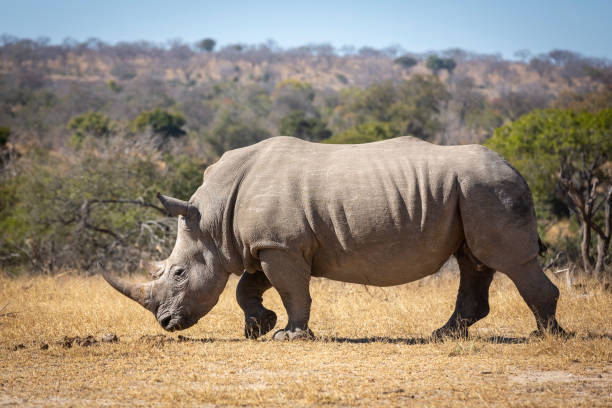rhino: (86, 216, 236, 342)
